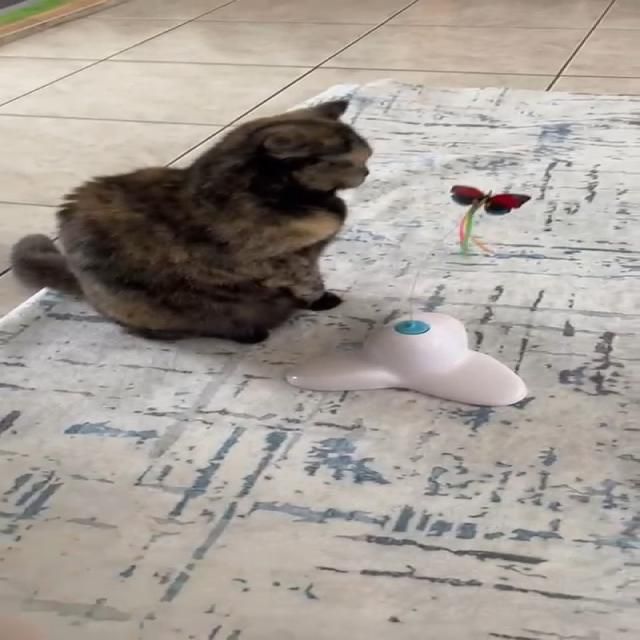authorized: (9, 98, 372, 344)
